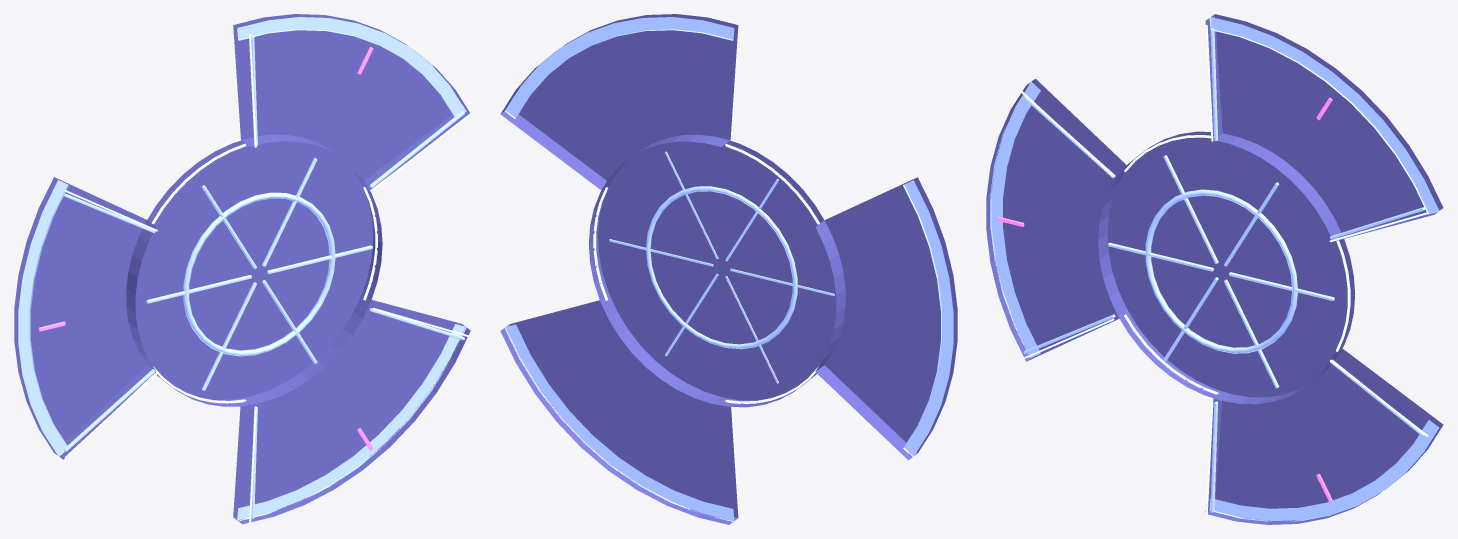
File: prism-panel-fun10-medium.glb
3 views of the same model, side by side, from view 1: azimuth 30°, elevation 25°; view 2: azimuth 150°, elevation 25°; view 3: azimuth 330°, elevation 25° (orthographic).
Parts seen in each view (by area): view 1: RENDER_PANEL_SHELL, RENDER_PANEL_FRAME, RENDER_PANEL_SIGNAL; view 2: RENDER_PANEL_SHELL, RENDER_PANEL_FRAME, RENDER_PANEL_SIGNAL; view 3: RENDER_PANEL_SHELL, RENDER_PANEL_FRAME, RENDER_PANEL_SIGNAL.
Part boxes in pixels (x1=…): RENDER_PANEL_SHELL: x1=14, y1=14, x2=470, y2=524; RENDER_PANEL_FRAME: x1=18, y1=17, x2=466, y2=521; RENDER_PANEL_SIGNAL: x1=64, y1=34, x2=471, y2=524; RENDER_PANEL_SHELL: x1=500, y1=14, x2=957, y2=524; RENDER_PANEL_FRAME: x1=505, y1=17, x2=953, y2=521; RENDER_PANEL_SIGNAL: x1=593, y1=22, x2=922, y2=513; RENDER_PANEL_SHELL: x1=986, y1=14, x2=1443, y2=524; RENDER_PANEL_FRAME: x1=990, y1=17, x2=1439, y2=521; RENDER_PANEL_SIGNAL: x1=1021, y1=25, x2=1428, y2=516.
Size of what is drawn, in the model's own units: 38.88 by 40.92 by 1.95.
